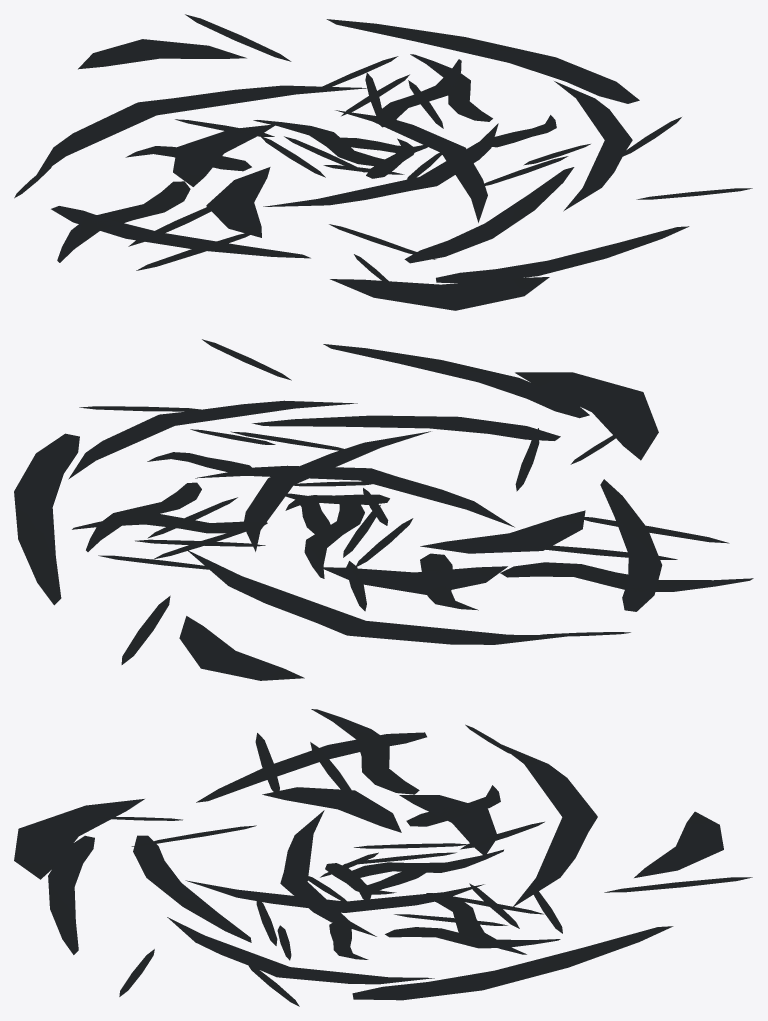
The model's file is grain_ashes.fbx.
3 views of the same model, one above another, from view 1: azimuth 30°, elevation 25°; view 2: azimuth 150°, elevation 25°; view 3: azimuth 270°, elevation 25° (orthographic). The views are drawn at different scales.
Parts seen in each view (by area): view 1: grain_ashes; view 2: grain_ashes; view 3: grain_ashes.
Part boxes in pixels (box(x1,y1,x2,y2)): grain_ashes: box(14, 14, 752, 310); grain_ashes: box(14, 339, 753, 680); grain_ashes: box(14, 709, 752, 1006).
Bounding box in the file's own units: 151 × 2.77e-06 × 158.
